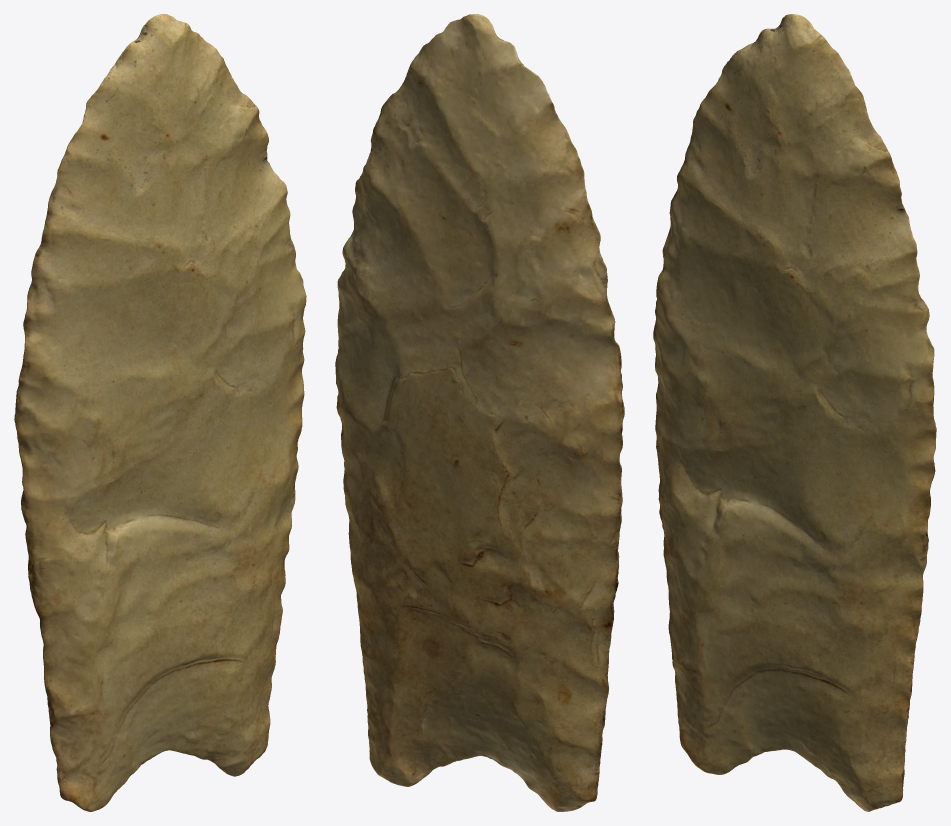
The picture shows the model from 3 angles, left to right: view 1: azimuth 30°, elevation 25°; view 2: azimuth 150°, elevation 25°; view 3: azimuth 330°, elevation 25°; orthographic projection. The views are drawn at different scales.
Parts seen in each view (by area): view 1: Object_2; view 2: Object_2; view 3: Object_2.
Boxes of the visible parts, x1,y1,x2,y2 form: Object_2: (14, 14, 306, 811); Object_2: (335, 14, 624, 811); Object_2: (653, 14, 936, 811).
Bounding box in the file's own units: 0.0326 × 0.0847 × 0.00724.
Materials: 1 (1 with a texture image).
